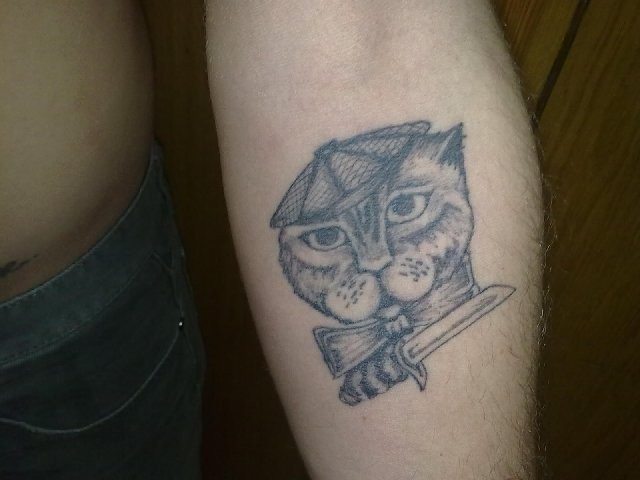tatu8_kot: (258, 112, 517, 407)
